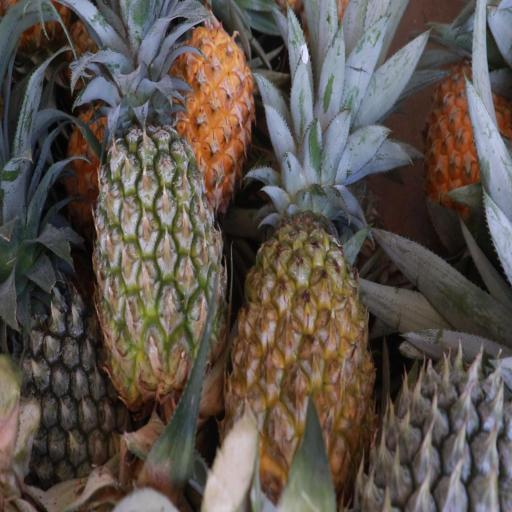------------------------------: (93, 118, 223, 388)
Pineapple - v8 v1: (230, 166, 372, 491), (108, 10, 254, 166), (427, 69, 506, 195)
